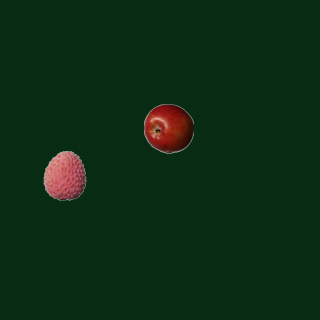Apple Braeburn: (143, 103, 193, 153)
Lychee: (39, 150, 89, 200)
